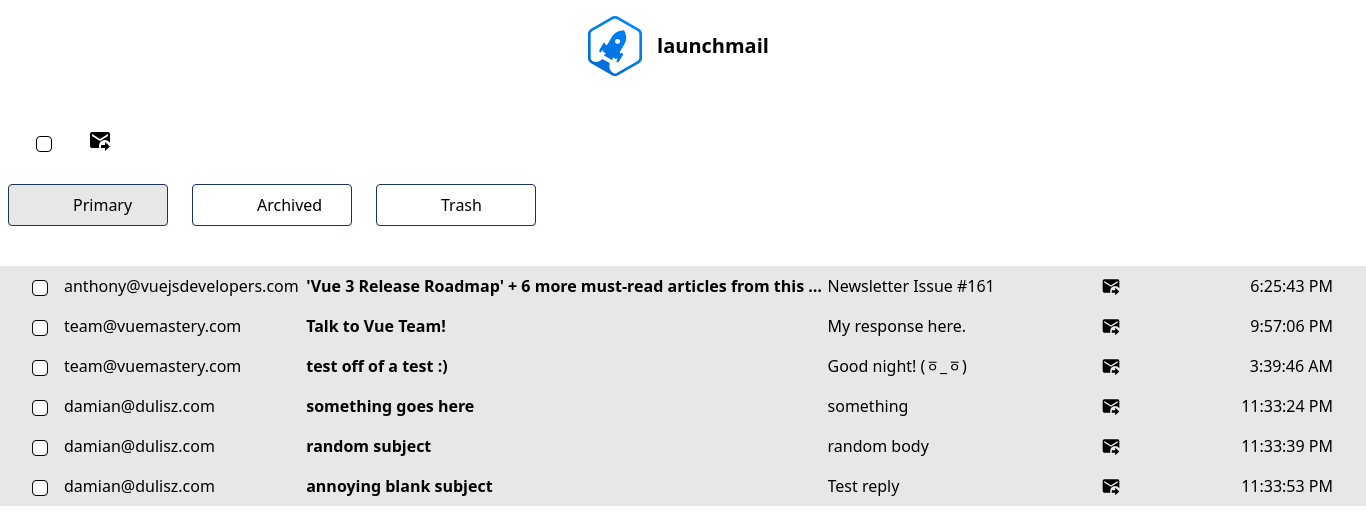
Test: Action Bar: Validate Tabs › Archived inbox count
Click the text "Archived" at (290, 205), box [257,193,322,217]
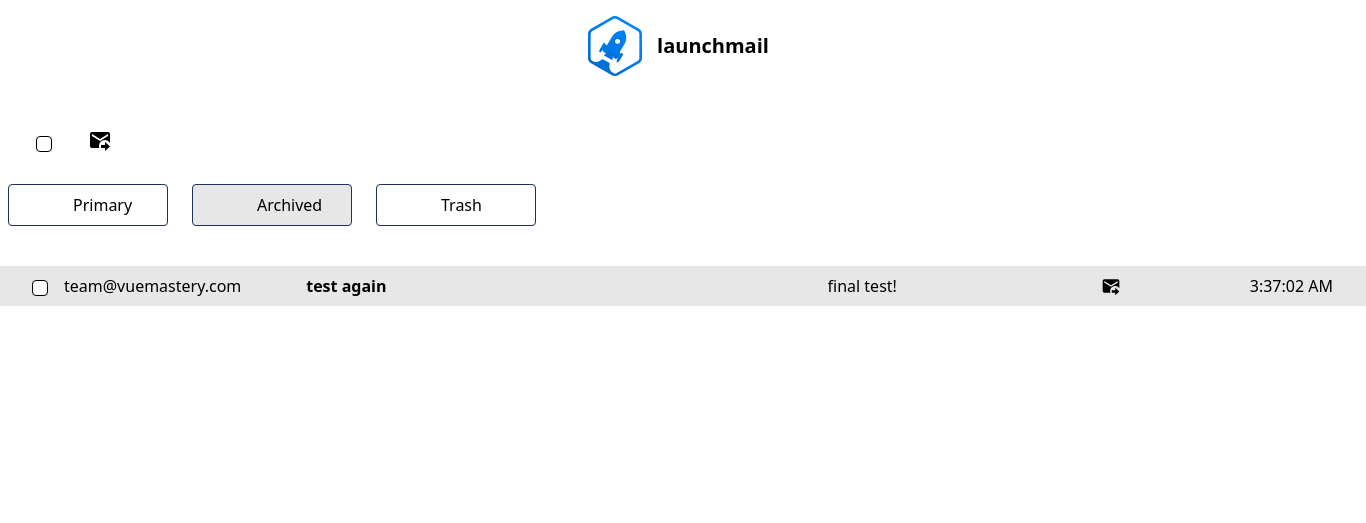
expect the number of checkboxes is 2: met, box [36,136,52,152]; [32,280,48,296]
